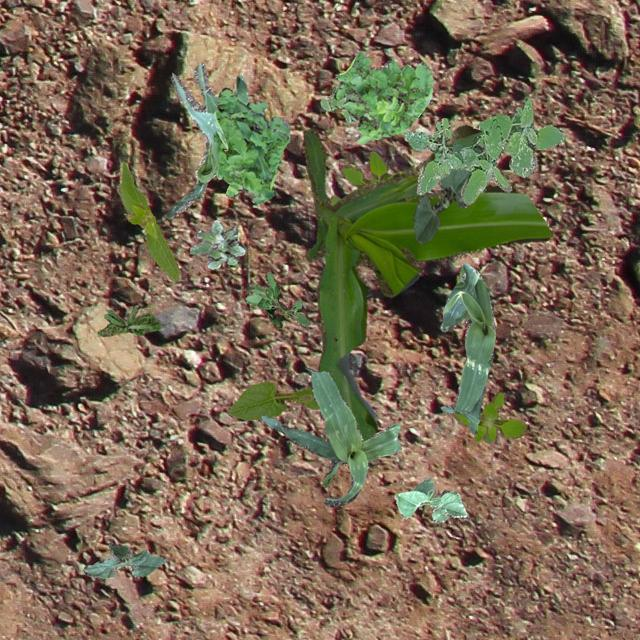crop: (302, 123, 550, 440), (260, 368, 400, 506), (165, 61, 248, 218), (440, 262, 494, 432), (118, 160, 178, 278), (412, 168, 468, 242), (226, 382, 318, 419), (394, 478, 466, 522), (82, 542, 166, 578)
weed: (402, 98, 562, 204), (333, 51, 432, 142), (212, 86, 288, 202), (330, 150, 406, 206), (450, 390, 526, 442), (243, 270, 310, 326), (188, 218, 244, 268), (96, 304, 160, 336), (320, 82, 358, 121)
